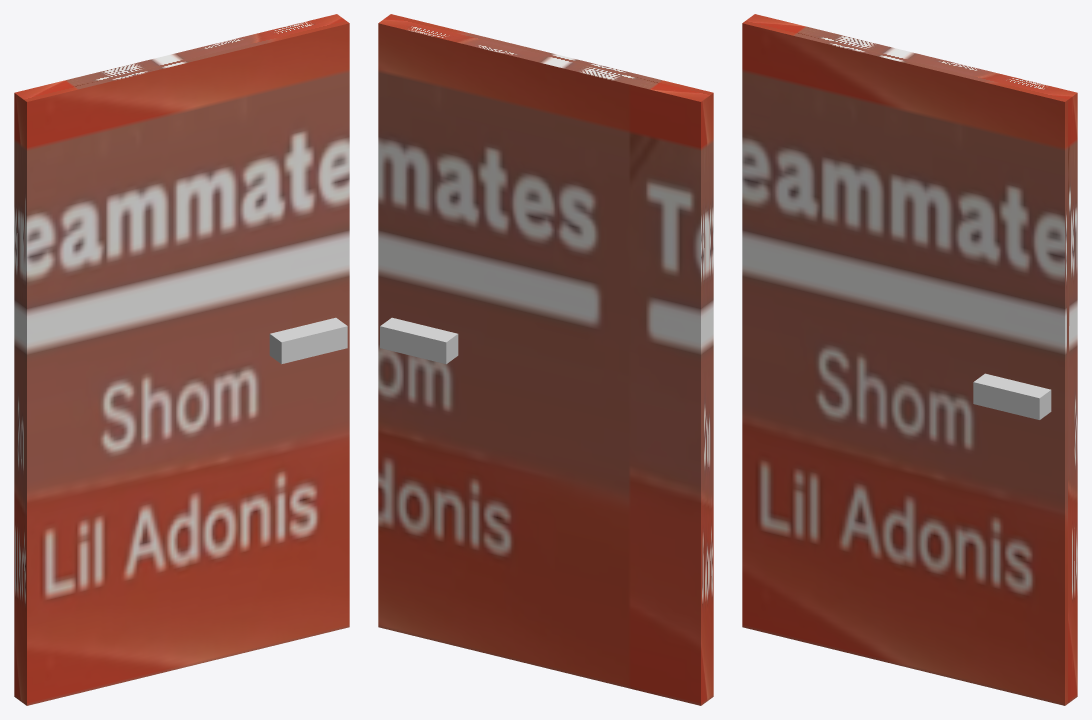
File: Door.fbx
The picture shows the model from 3 angles, left to right: view 1: azimuth 30°, elevation 25°; view 2: azimuth 150°, elevation 25°; view 3: azimuth 330°, elevation 25°; orthographic projection.
Parts seen in each view (by area): view 1: Cube, Cube.001; view 2: Cube, Cube.001; view 3: Cube, Cube.001.
Part boxes in pixels (left/top/right/bottom): Cube: left=14, top=14, right=349, bottom=705; Cube.001: left=269, top=317, right=347, bottom=364; Cube: left=378, top=14, right=713, bottom=705; Cube.001: left=380, top=317, right=458, bottom=364; Cube: left=742, top=14, right=1077, bottom=705; Cube.001: left=973, top=373, right=1051, bottom=419.
Size of the model in its own units: 200 by 358 by 38.81.
